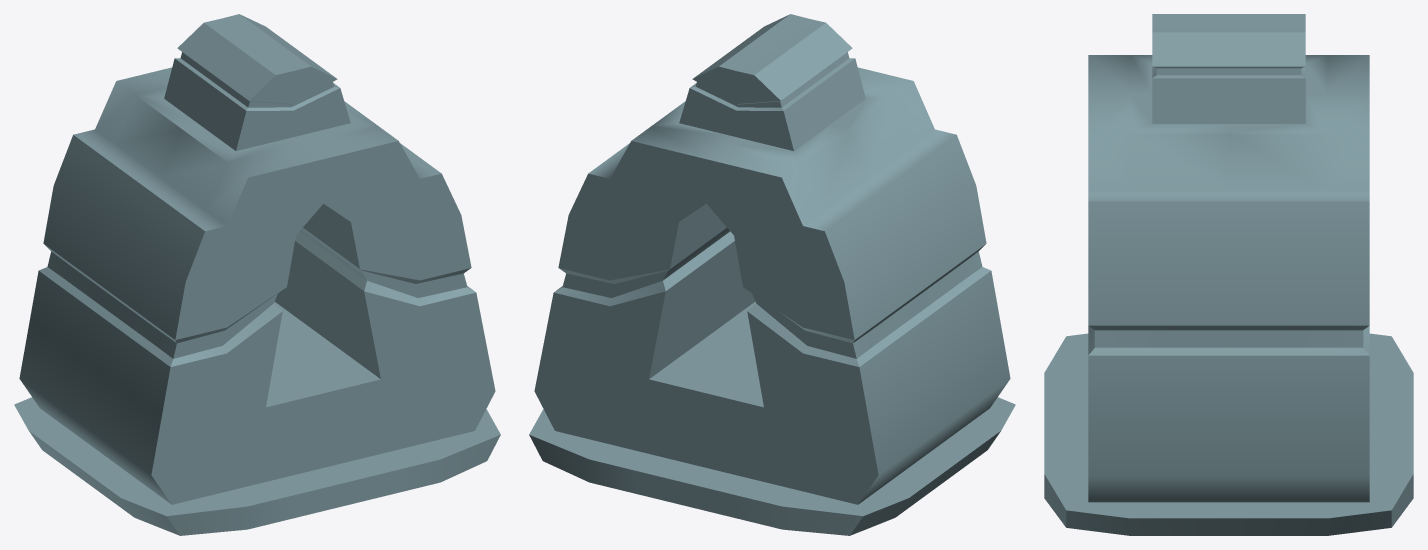
The model's file is SpireHead.fbx.
3 renders of one model, left to right at view 1: azimuth 30°, elevation 25°; view 2: azimuth 150°, elevation 25°; view 3: azimuth 270°, elevation 25°, orthographic. The views are drawn at different scales.
Parts seen in each view (by area): view 1: Spire_Head; view 2: Spire_Head; view 3: Spire_Head.
Part boxes in pixels (bbox=[...]): Spire_Head: bbox=[14, 14, 500, 535]; Spire_Head: bbox=[529, 14, 1015, 535]; Spire_Head: bbox=[1044, 14, 1413, 535].
Bounding box in the file's own units: 8.5 × 8.85 × 6.97.
